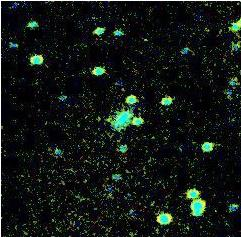star: (95, 103, 125, 133)
